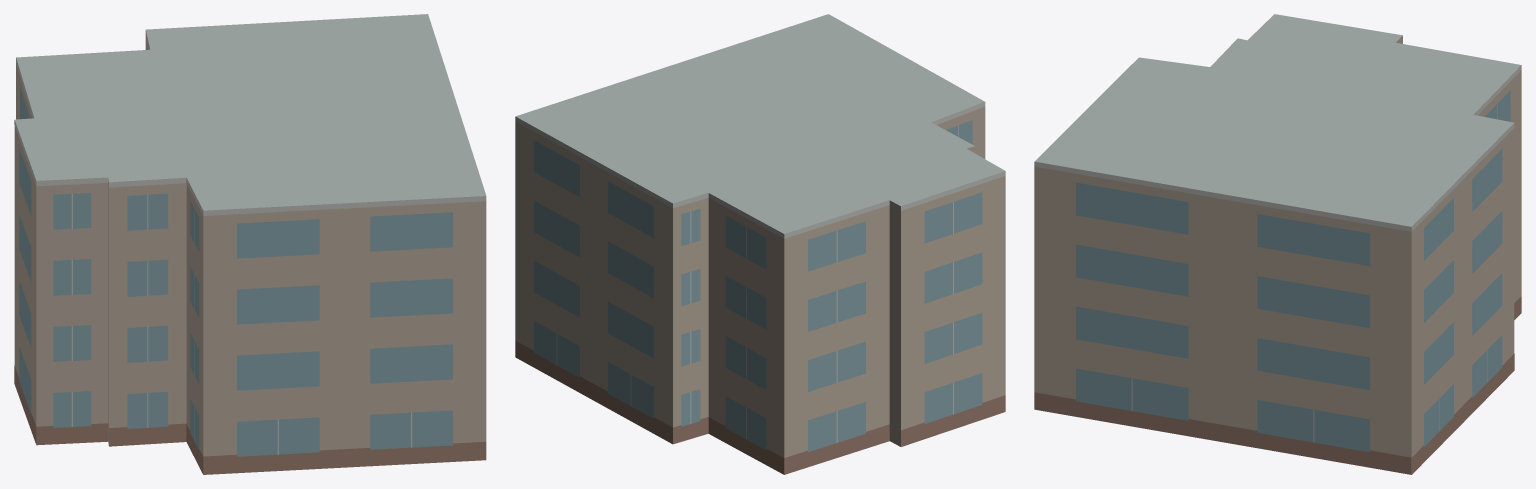
Rendered from survey-upis-32879327.glb.
The picture shows the model from 3 angles, left to right: view 1: azimuth 30°, elevation 25°; view 2: azimuth 150°, elevation 25°; view 3: azimuth 270°, elevation 25°; orthographic projection. The views are drawn at different scales.
Parts seen in each view (by area): view 1: survey-upis-32879327.tmp; view 2: survey-upis-32879327.tmp; view 3: survey-upis-32879327.tmp.
Boxes of the visible parts, bbox=[...] form: survey-upis-32879327.tmp: bbox=[14, 14, 486, 474]; survey-upis-32879327.tmp: bbox=[515, 14, 1005, 474]; survey-upis-32879327.tmp: bbox=[1034, 14, 1521, 474].
Size of the model in its own units: 22.47 by 12.2 by 21.73.
